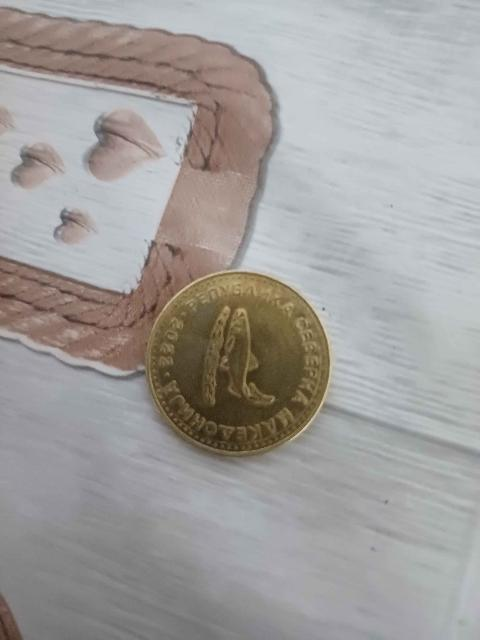coin: (146, 271, 330, 455)
